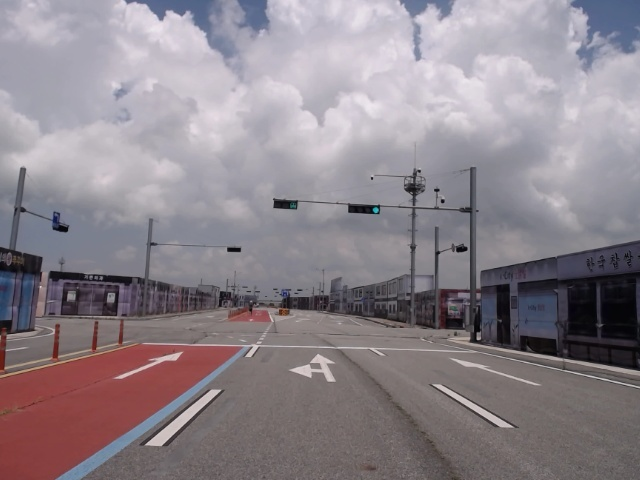straight_green_4: (348, 202, 381, 214)
